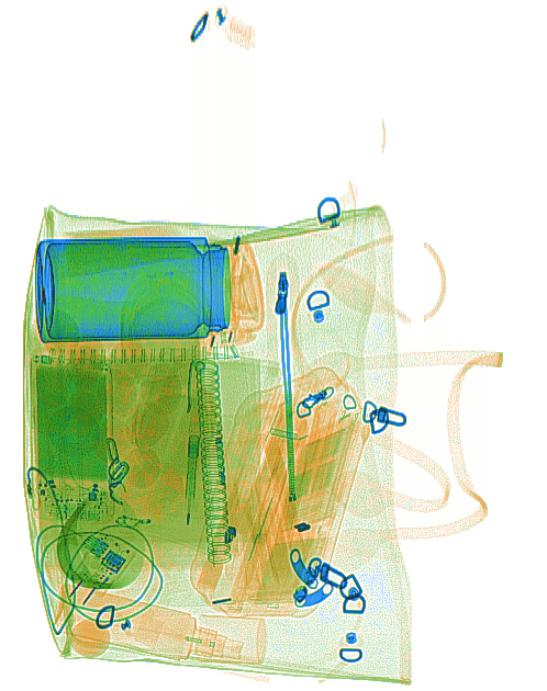plasticBottleWithaNozzle: (53, 577, 245, 666)
